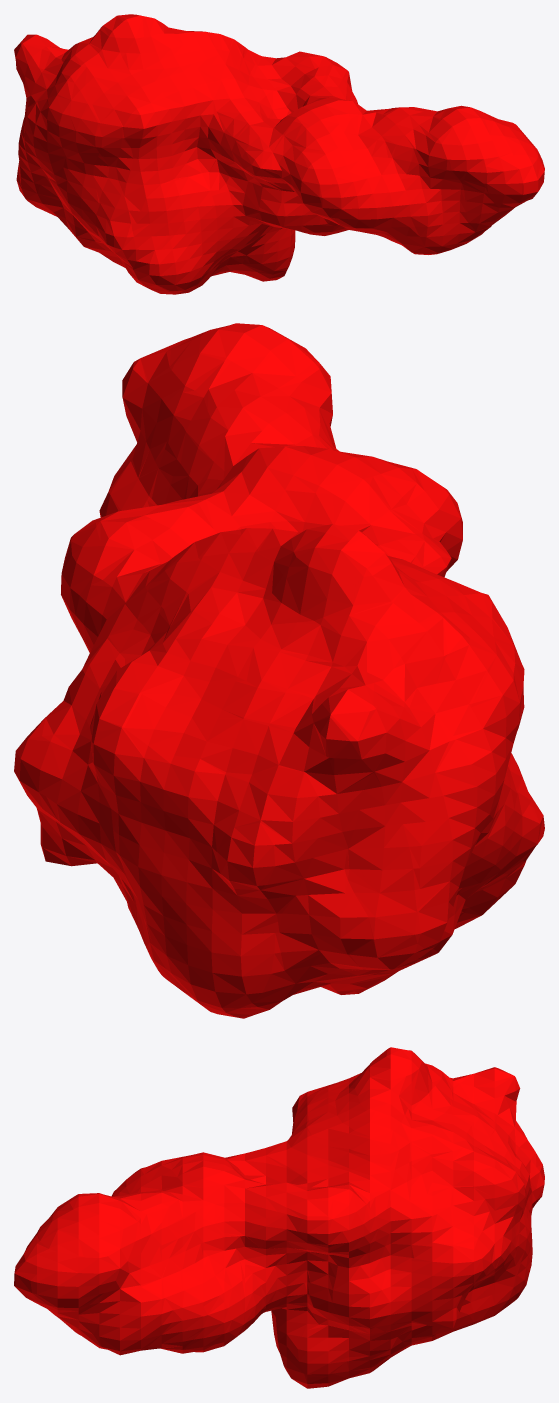
The model's file is argE_coarse.dae.
3 views of the same model, one above another, from view 1: azimuth 30°, elevation 25°; view 2: azimuth 150°, elevation 25°; view 3: azimuth 270°, elevation 25° (orthographic). The views are drawn at different scales.
Visible parts, largest first — view 1: argE; view 2: argE; view 3: argE.
Boxes of the visible parts, x1,y1,x2,y2 form: argE: [14, 14, 544, 294]; argE: [14, 323, 544, 1018]; argE: [14, 1047, 544, 1388].
Bounding box in the file's own units: 69.86 × 50.08 × 85.29.
